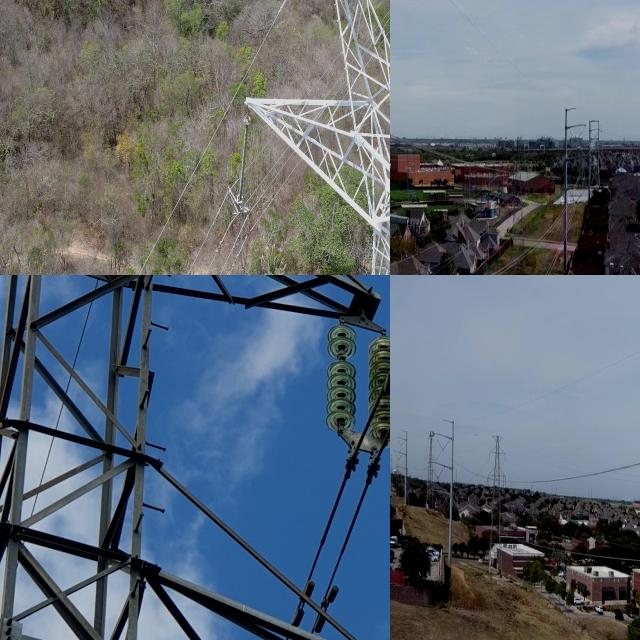杆塔: (0, 275, 365, 640), (247, 0, 390, 275), (482, 422, 508, 555), (423, 426, 439, 510)
正常电缆: (283, 469, 372, 640)
正常绝缘子: (326, 320, 358, 445), (366, 338, 390, 450), (235, 95, 255, 218)
绝缘子破损: (336, 353, 348, 360)
